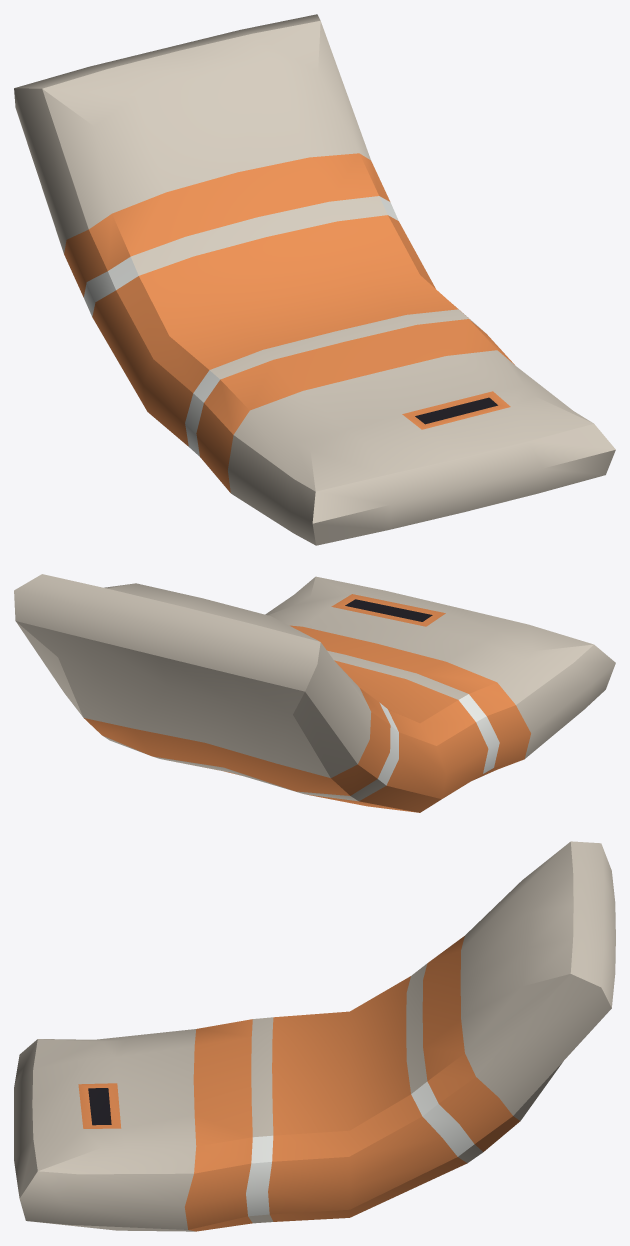
The model's file is SacoCimentoEncostado.fbx.
3 renders of one model, top to bottom at view 1: azimuth 30°, elevation 25°; view 2: azimuth 150°, elevation 25°; view 3: azimuth 270°, elevation 25°, orthographic. The views are drawn at different scales.
Parts seen in each view (by area): view 1: CementD_LOD0; view 2: CementD_LOD0; view 3: CementD_LOD0.
Part boxes in pixels (<box>): CementD_LOD0: <box>14,14,615,545</box>; CementD_LOD0: <box>14,574,615,812</box>; CementD_LOD0: <box>14,841,615,1231</box>.
Size of what is drawn, in the model's own units: 1.01 by 0.9027 by 1.78.
